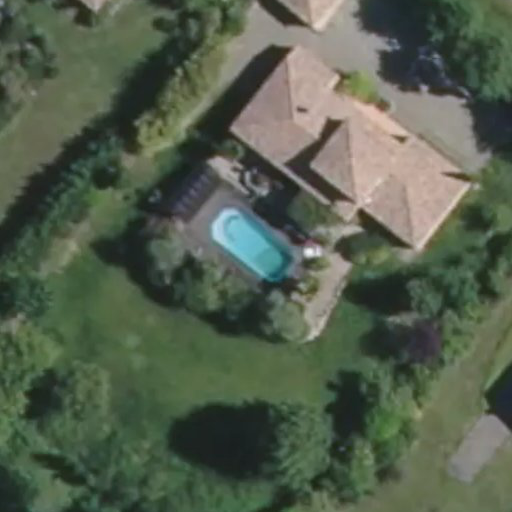pool: (205, 227, 305, 254)
